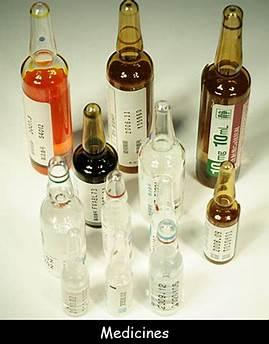Syringe: (194, 3, 258, 183), (19, 1, 77, 166), (104, 4, 159, 172), (202, 154, 243, 274), (146, 211, 190, 316), (56, 221, 95, 322), (107, 228, 137, 320)
